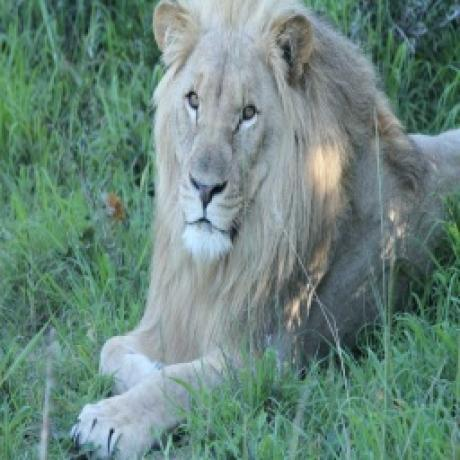Lion: (66, 0, 460, 460)
